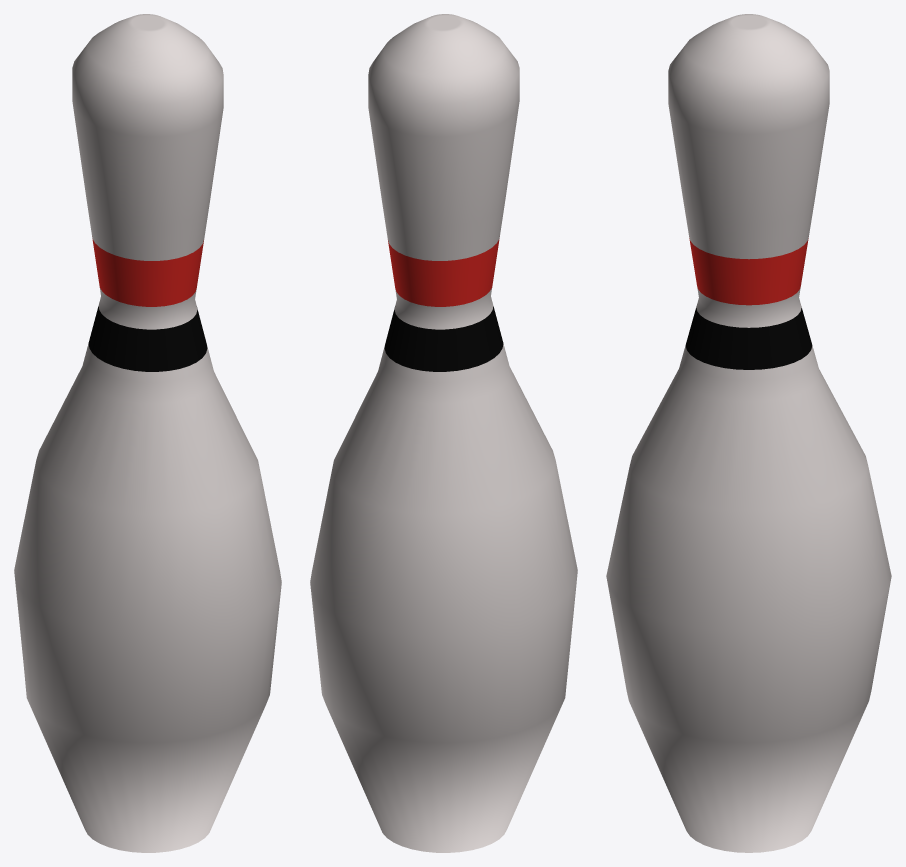
The model's file is bowlingpin.glb.
3 renders of one model, left to right at view 1: azimuth 30°, elevation 25°; view 2: azimuth 150°, elevation 25°; view 3: azimuth 270°, elevation 25°, orthographic.
Visible parts, largest first — view 1: Cylinder; view 2: Cylinder; view 3: Cylinder.
Part boxes in pixels (left/top/right/bottom): Cylinder: left=14, top=14, right=281, bottom=852; Cylinder: left=310, top=14, right=577, bottom=852; Cylinder: left=606, top=14, right=891, bottom=852.
Bounding box in the file's own units: 1.8 × 6.09 × 1.96.
